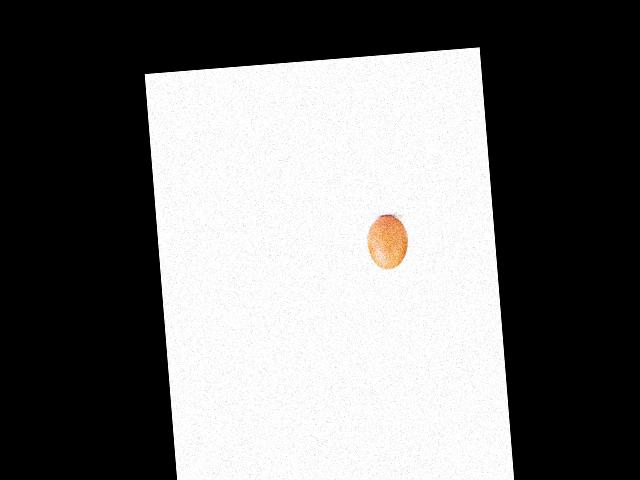egg: (366, 214, 410, 270)
